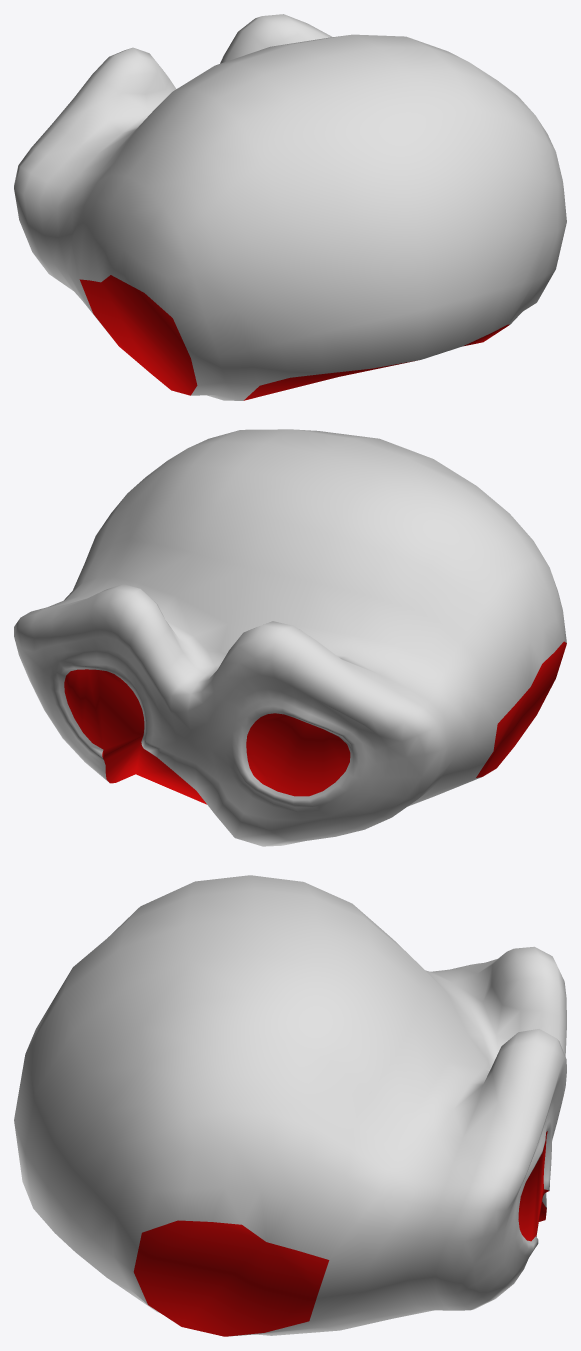
Rendered from gib_2.dae.
3 renders of one model, top to bottom at view 1: azimuth 30°, elevation 25°; view 2: azimuth 150°, elevation 25°; view 3: azimuth 270°, elevation 25°, orthographic. The views are drawn at different scales.
Parts seen in each view (by area): view 1: gib_2; view 2: gib_2; view 3: gib_2.
Boxes of the visible parts, box(x1,y1,x2,y2) form: gib_2: box(14, 14, 566, 400); gib_2: box(14, 429, 566, 846); gib_2: box(14, 875, 566, 1336).
Size of the model in its own units: 1.66 by 1.6 by 1.13.
